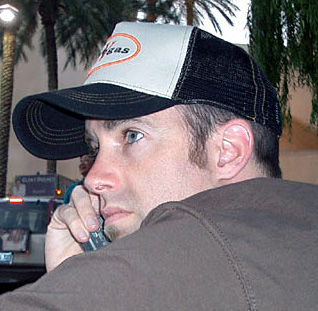person: (2, 23, 318, 311)
